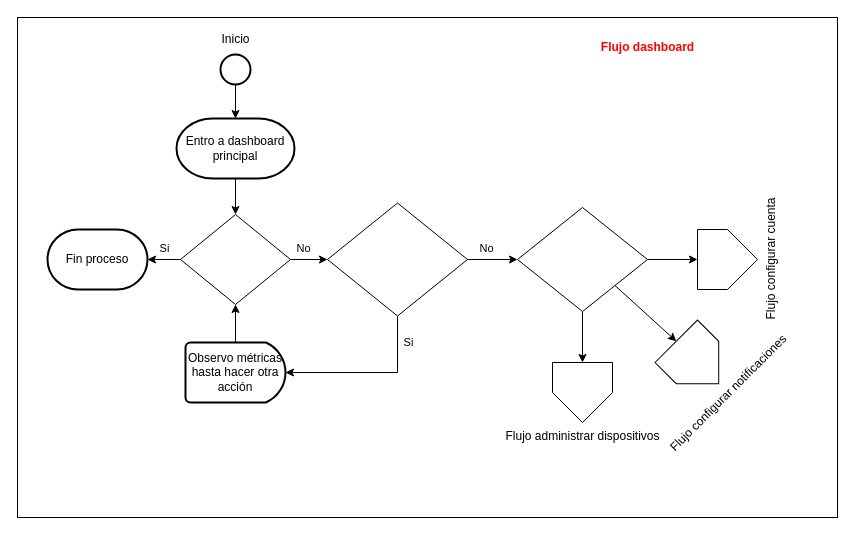
The diagram is 855 pixels wide and 535 high, and some of its shapes have lost their labels. Each missing label, with the centre of its shape:
"¿Deseo cerrar sesion?" goes at (x=235, y=259).
"¿Que otra acción deseo hacer?" goes at (x=582, y=259).
"¿Quiero observar métricas generales?" goes at (x=397, y=259).
